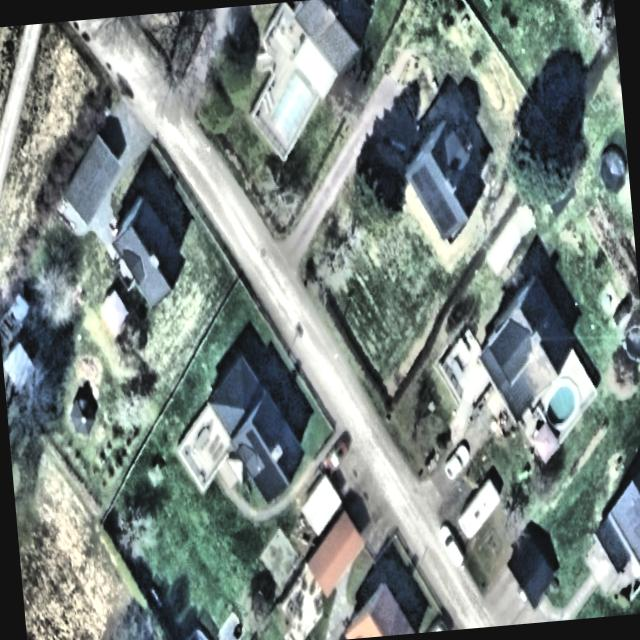roof_pv: (407, 159, 458, 238), (250, 462, 290, 508), (242, 424, 270, 468)
